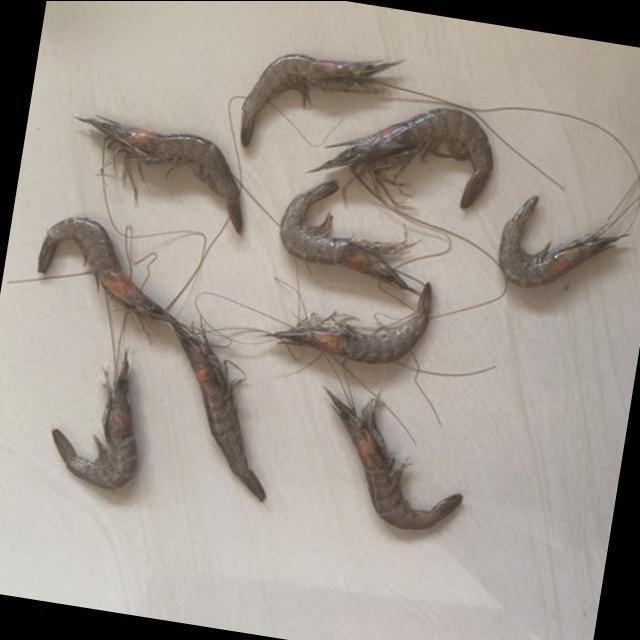shrimp: (77, 118, 243, 233), (327, 391, 464, 530), (310, 107, 492, 208), (172, 321, 267, 501), (280, 181, 418, 292), (37, 218, 182, 323), (242, 53, 402, 144), (270, 282, 433, 363), (500, 195, 627, 286), (51, 356, 136, 490)
